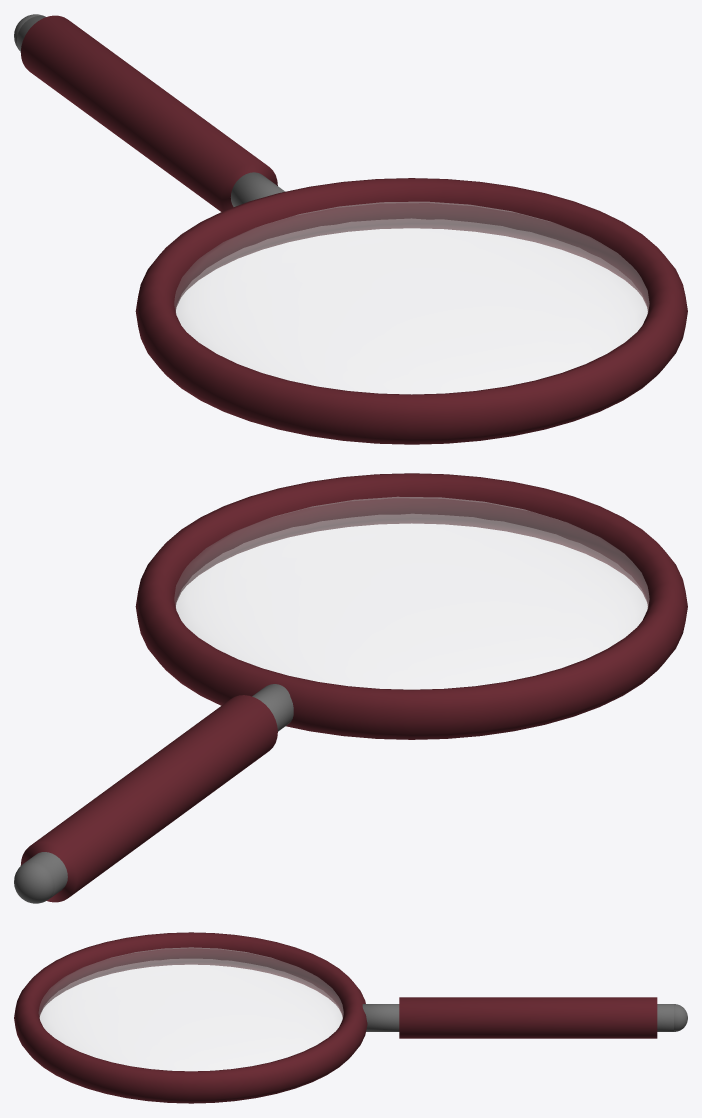
Rendered from lupa5.fbx.
3 views of the same model, one above another, from view 1: azimuth 30°, elevation 25°; view 2: azimuth 150°, elevation 25°; view 3: azimuth 270°, elevation 25° (orthographic). The views are drawn at different scales.
Parts seen in each view (by area): view 1: Sphere, Torus.001, Cylinder.002, Cylinder; view 2: Sphere, Torus.001, Cylinder.002, Sphere.001, Cylinder, Cylinder.003; view 3: Sphere, Torus.001, Cylinder.002, Cylinder, Cylinder.003, Sphere.001.
Boxes of the visible parts, x1,y1,x2,y2 form: Sphere: (174,201,649,394); Torus.001: (135,178,687,444); Cylinder.002: (20,15,277,211); Cylinder: (230,172,284,206); Sphere: (174,496,649,689); Torus.001: (135,473,687,739); Cylinder.002: (20,695,277,902); Sphere.001: (14,861,54,903); Cylinder: (252,684,293,731); Cylinder.003: (22,852,67,898); Sphere: (39,947,343,1071); Torus.001: (14,932,367,1103); Cylinder.002: (399,997,657,1038); Cylinder: (362,1004,399,1031); Cylinder.003: (657,1004,673,1031); Sphere.001: (674,1004,687,1031).
Bounding box in the file's own units: 358 × 56.13 × 681.
